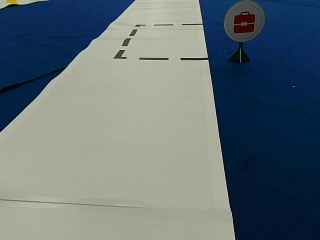company: (224, 1, 265, 41)
